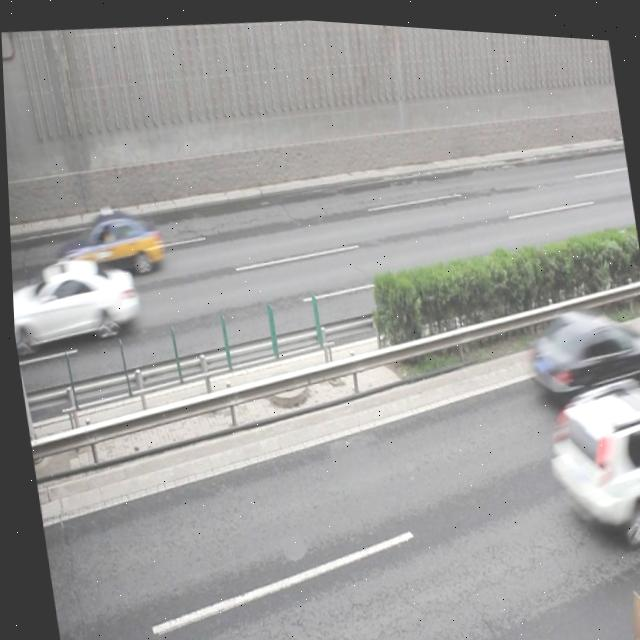car: (530, 362, 640, 536), (9, 244, 141, 355), (517, 288, 640, 400), (45, 198, 166, 283)
